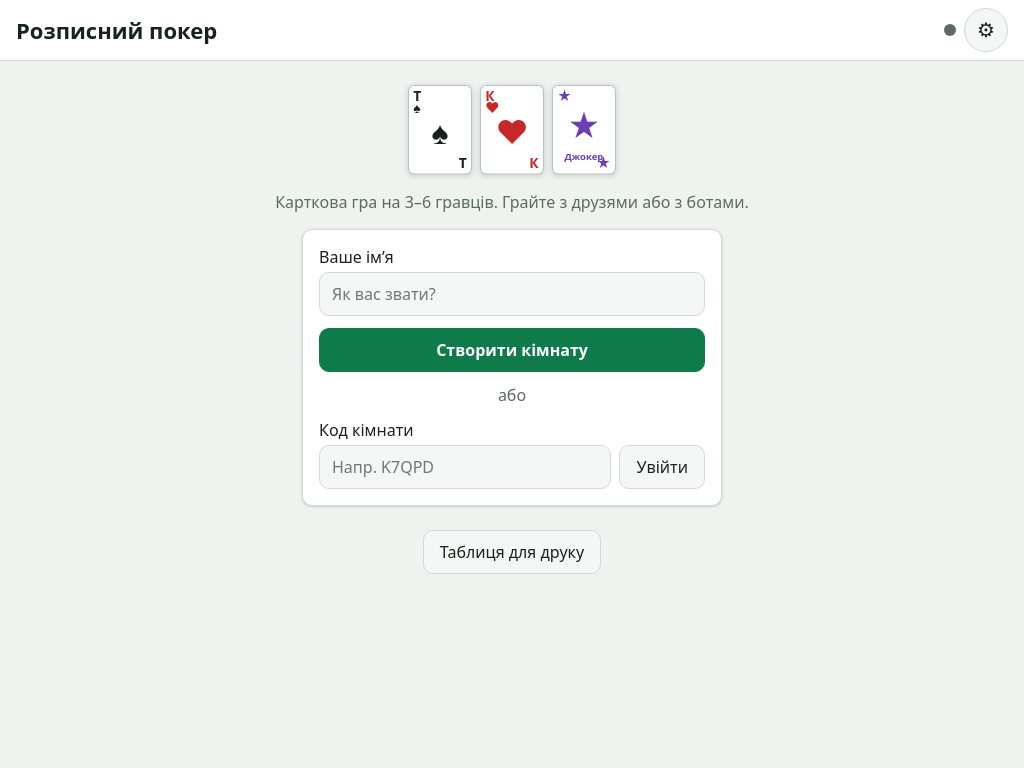
Test: меню налаштувань у шапці › стан перемикачів видно текстом, а не лише значком чи підказкою
This screenshot has width=1024, height=768.
Click the button named "Налаштування" at (986, 30), box top-left (964, 8), bottom-right (1008, 52)
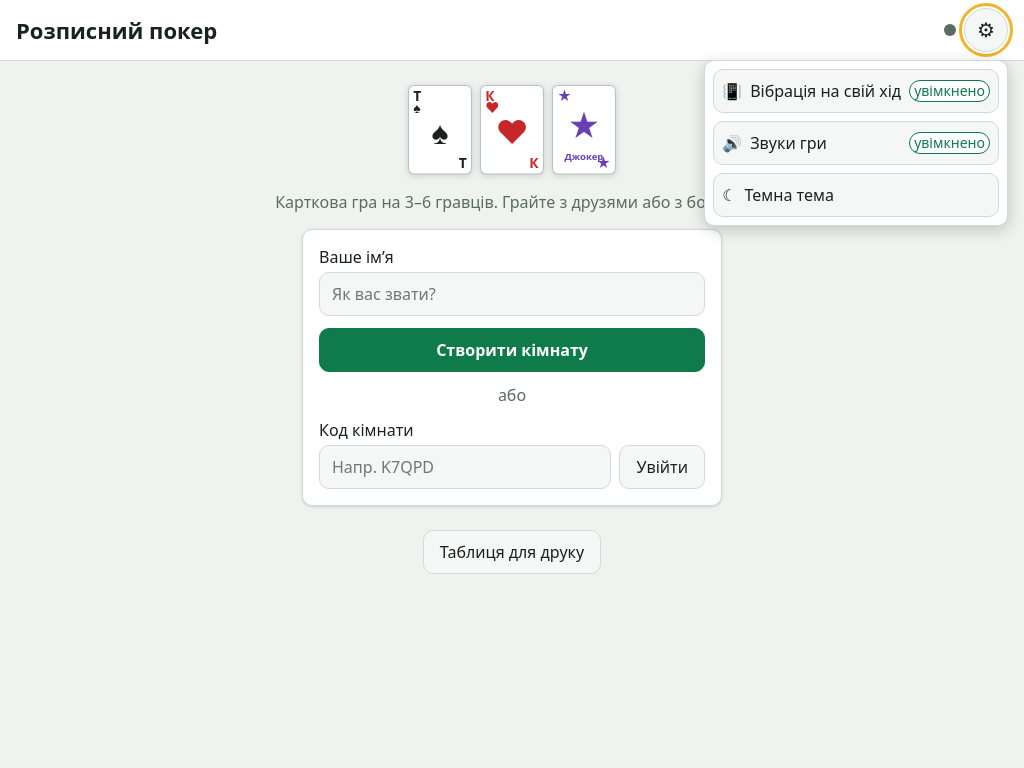
Check: the 1st text "увімкнено" is shown, box top-left (909, 80), bottom-right (990, 102)
Check: the 2nd text "увімкнено" is shown, box top-left (909, 132), bottom-right (990, 154)
Click the button "🔊 Звуки гри увімкнено" at (789, 143), box top-left (713, 121), bottom-right (999, 165)
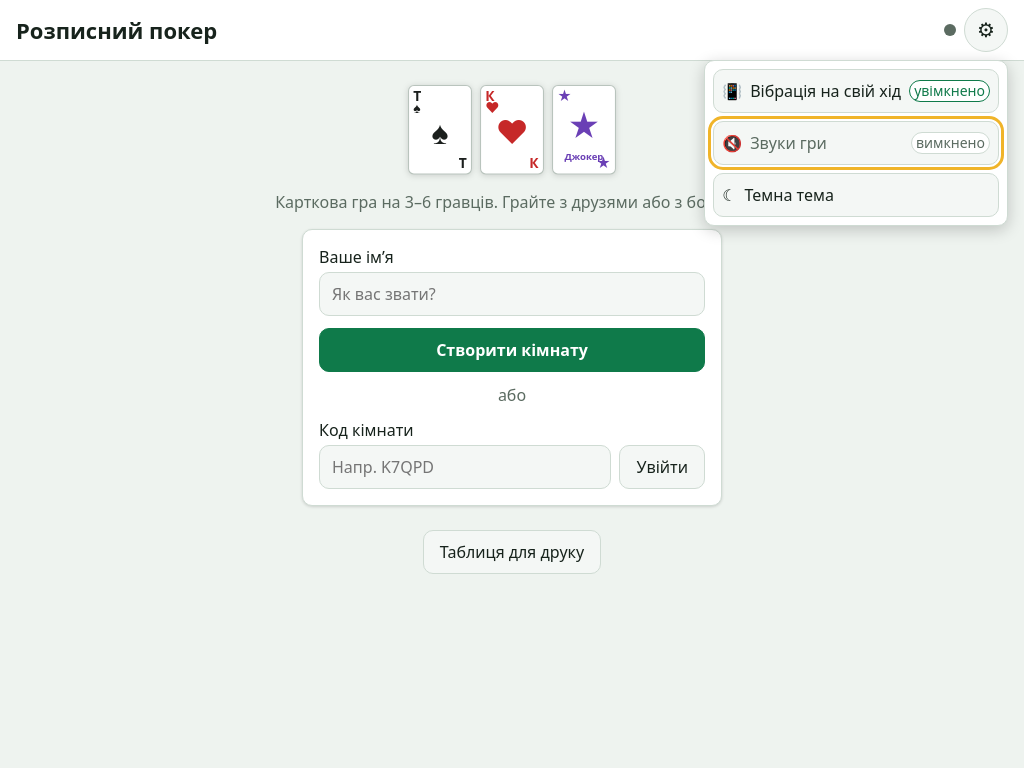
Check: the text "увімкнено" is shown, box top-left (909, 80), bottom-right (990, 102)
Check: the text "вимкнено" is shown, box top-left (911, 132), bottom-right (990, 154)
